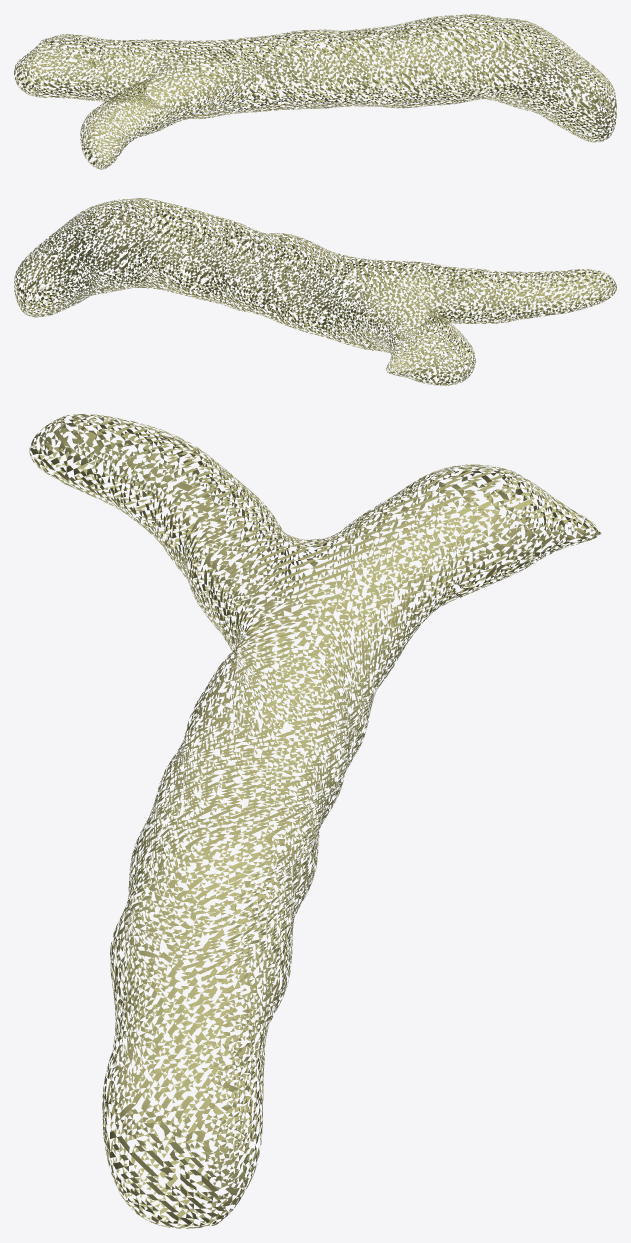
File: morph_009.glb
The picture shows the model from 3 angles, top to bottom: view 1: azimuth 30°, elevation 25°; view 2: azimuth 150°, elevation 25°; view 3: azimuth 270°, elevation 25°; orthographic projection. The views are drawn at different scales.
Bounding box in the file's own units: 139 × 37.08 × 62.17.
